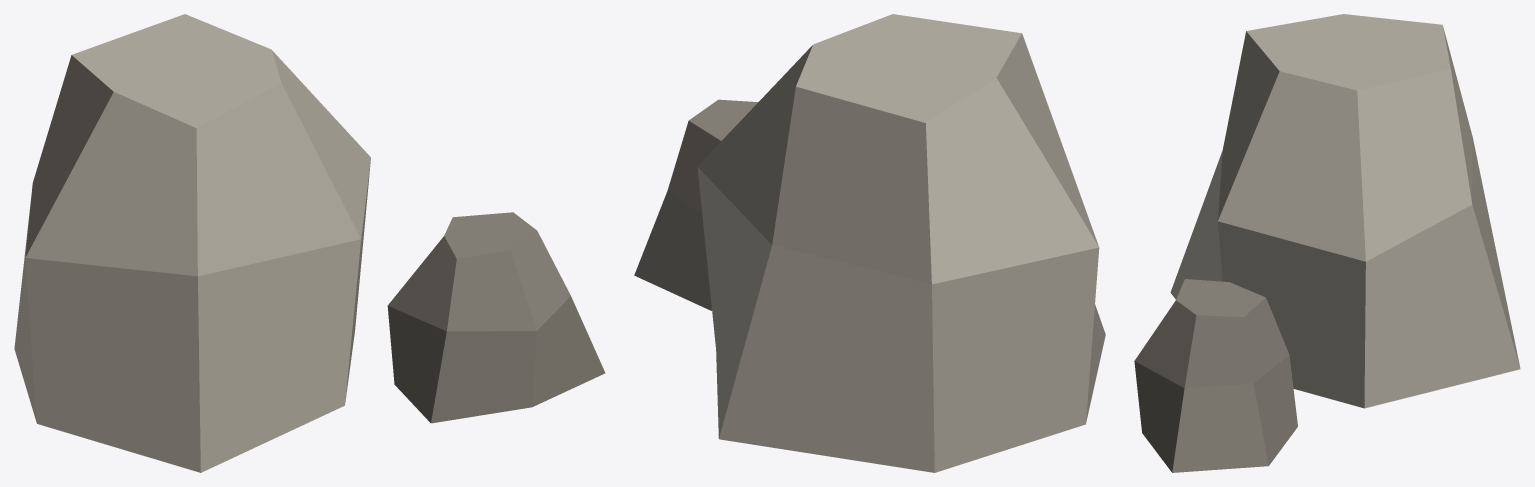
File: Stone4.fbx
3 views of the same model, side by side, from view 1: azimuth 30°, elevation 25°; view 2: azimuth 150°, elevation 25°; view 3: azimuth 270°, elevation 25° (orthographic). The views are drawn at different scales.
Visible parts, largest first — view 1: Stone4; view 2: Stone4; view 3: Stone4.
Boxes of the visible parts, x1,y1,x2,y2 form: Stone4: (14, 14, 605, 472); Stone4: (634, 14, 1105, 472); Stone4: (1134, 14, 1520, 472).
Size of the model in its own units: 0.5336 by 0.3251 by 0.3995.
